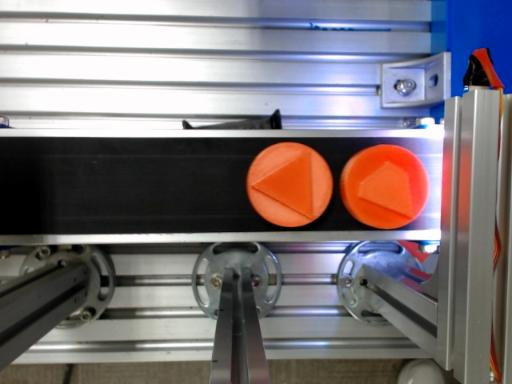Not_Square: (249, 148, 313, 221), (359, 161, 414, 219)
Orange_Waper: (341, 144, 429, 228), (246, 142, 333, 226)
